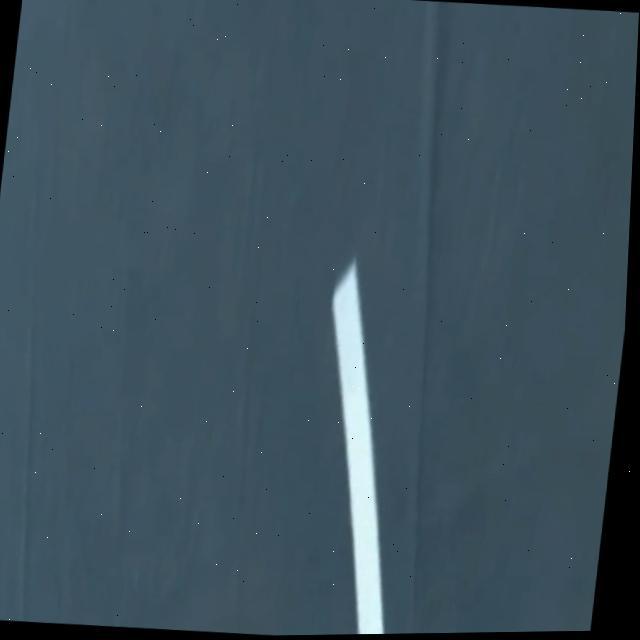center: (331, 261, 383, 634)
